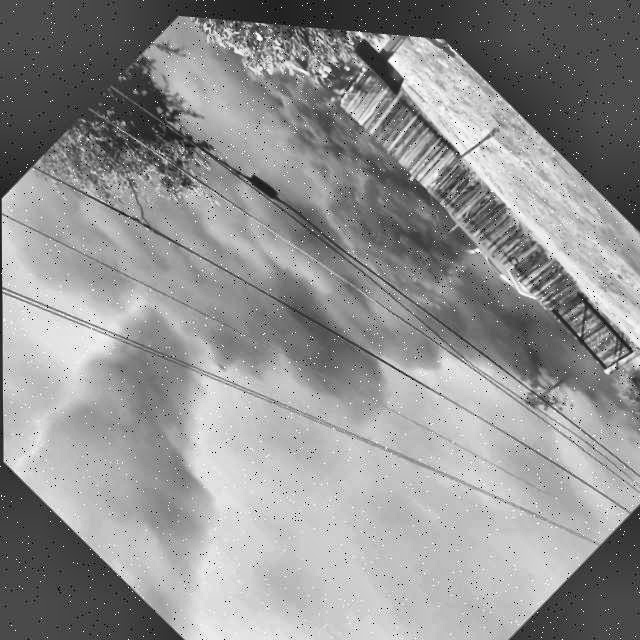Smoke: (19, 1, 640, 639)
